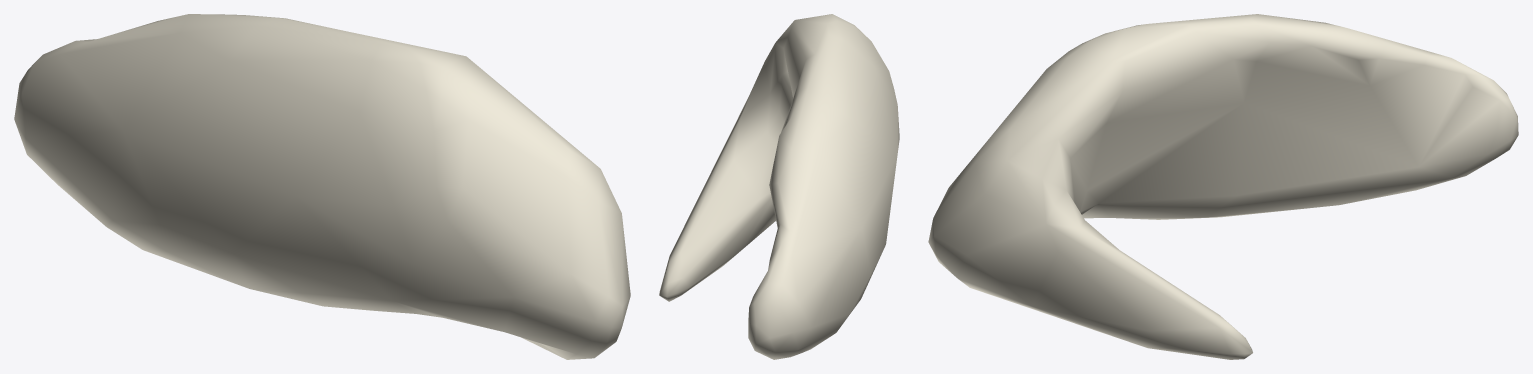
The picture shows the model from 3 angles, left to right: view 1: azimuth 30°, elevation 25°; view 2: azimuth 150°, elevation 25°; view 3: azimuth 270°, elevation 25°; orthographic projection. The views are drawn at different scales.
Visible parts, largest first — view 1: ZA_162d564be43a51cb; view 2: ZA_162d564be43a51cb; view 3: ZA_162d564be43a51cb.
Part boxes in pixels (left/top/right/bottom): ZA_162d564be43a51cb: left=14, top=14, right=630, bottom=359; ZA_162d564be43a51cb: left=659, top=14, right=899, bottom=359; ZA_162d564be43a51cb: left=928, top=14, right=1518, bottom=359.
Bounding box in the file's own units: 0.0148 × 0.0142 × 0.0274.
